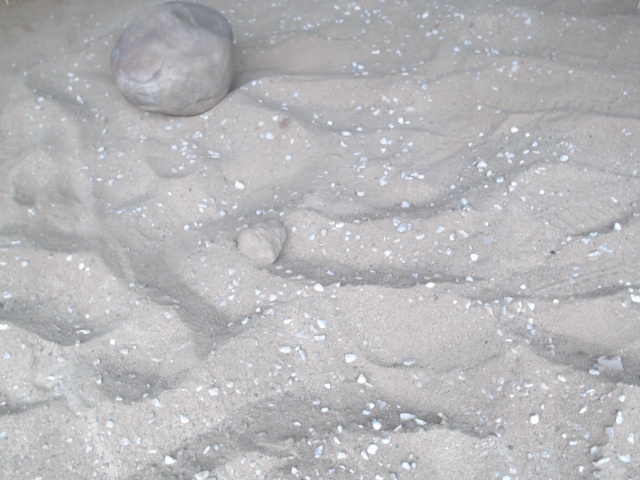rock: (104, 1, 241, 124), (233, 215, 291, 274)
